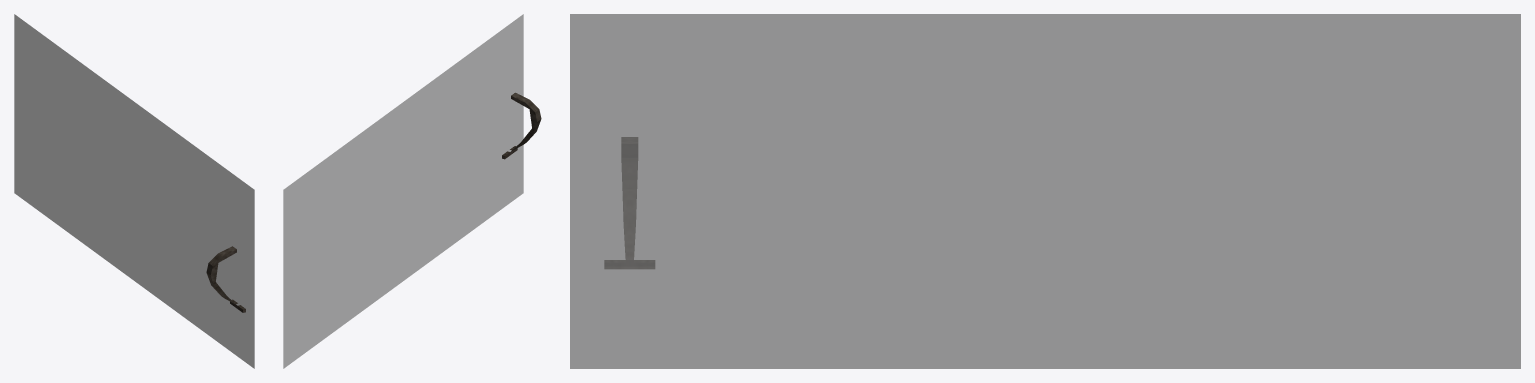
Rendered from left_door.dae.
The picture shows the model from 3 angles, left to right: view 1: azimuth 30°, elevation 25°; view 2: azimuth 150°, elevation 25°; view 3: azimuth 270°, elevation 25°; orthographic projection. The views are drawn at different scales.
Parts seen in each view (by area): view 1: Component_10, Component_8; view 2: Component_10, Component_7; view 3: Component_10, Component_8, Component_7.
Part boxes in pixels (<box>): Component_10: <box>14,14,254,368</box>; Component_8: <box>208,248,245,312</box>; Component_10: <box>283,14,523,368</box>; Component_7: <box>502,94,539,159</box>; Component_10: <box>570,14,1520,368</box>; Component_8: <box>604,137,629,268</box>; Component_7: <box>630,137,654,268</box>.
Size of the model in its own units: 2.63 by 35.34 by 14.56.
Materials: 2 (1 with a texture image).
